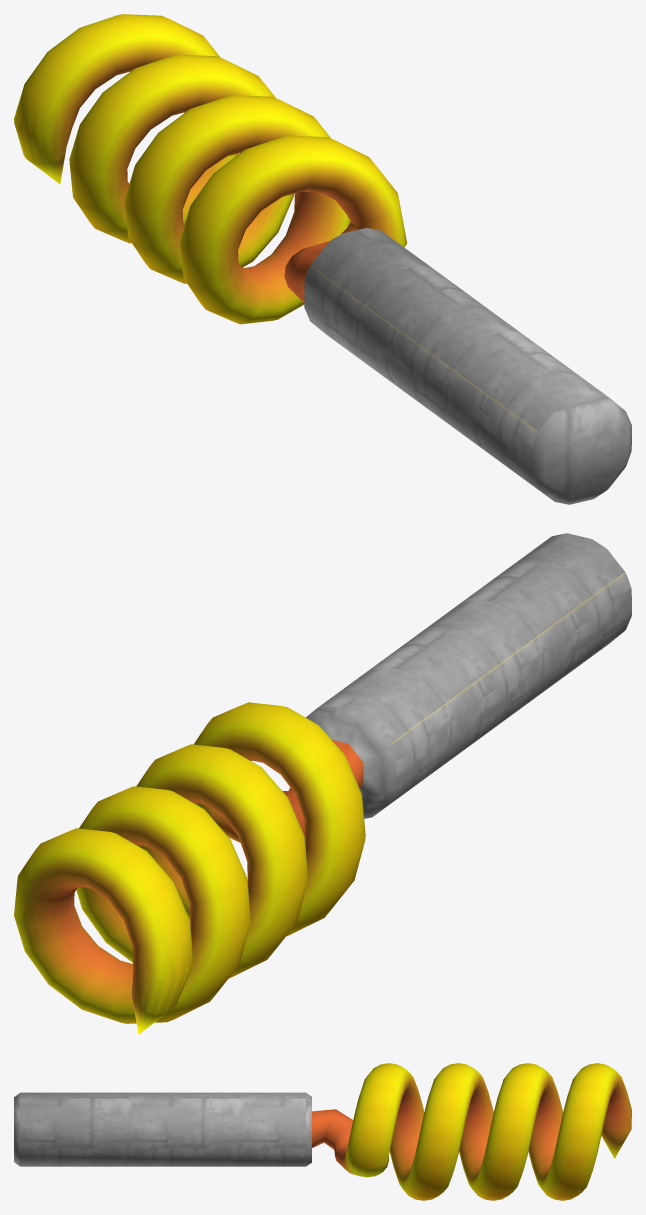
Rendered from w_plasma.obj.
3 views of the same model, one above another, from view 1: azimuth 30°, elevation 25°; view 2: azimuth 150°, elevation 25°; view 3: azimuth 270°, elevation 25° (orthographic). The views are drawn at different scales.
Visible parts, largest first — view 1: w_plasma; view 2: w_plasma; view 3: w_plasma.
Part boxes in pixels (x1,y1,x2,y2): w_plasma: (14, 14, 631, 504); w_plasma: (14, 533, 631, 1034); w_plasma: (14, 1063, 631, 1200).
Size of the model in its own units: 0.912 by 0.912 by 4.09.
1 material, 1 textured.
